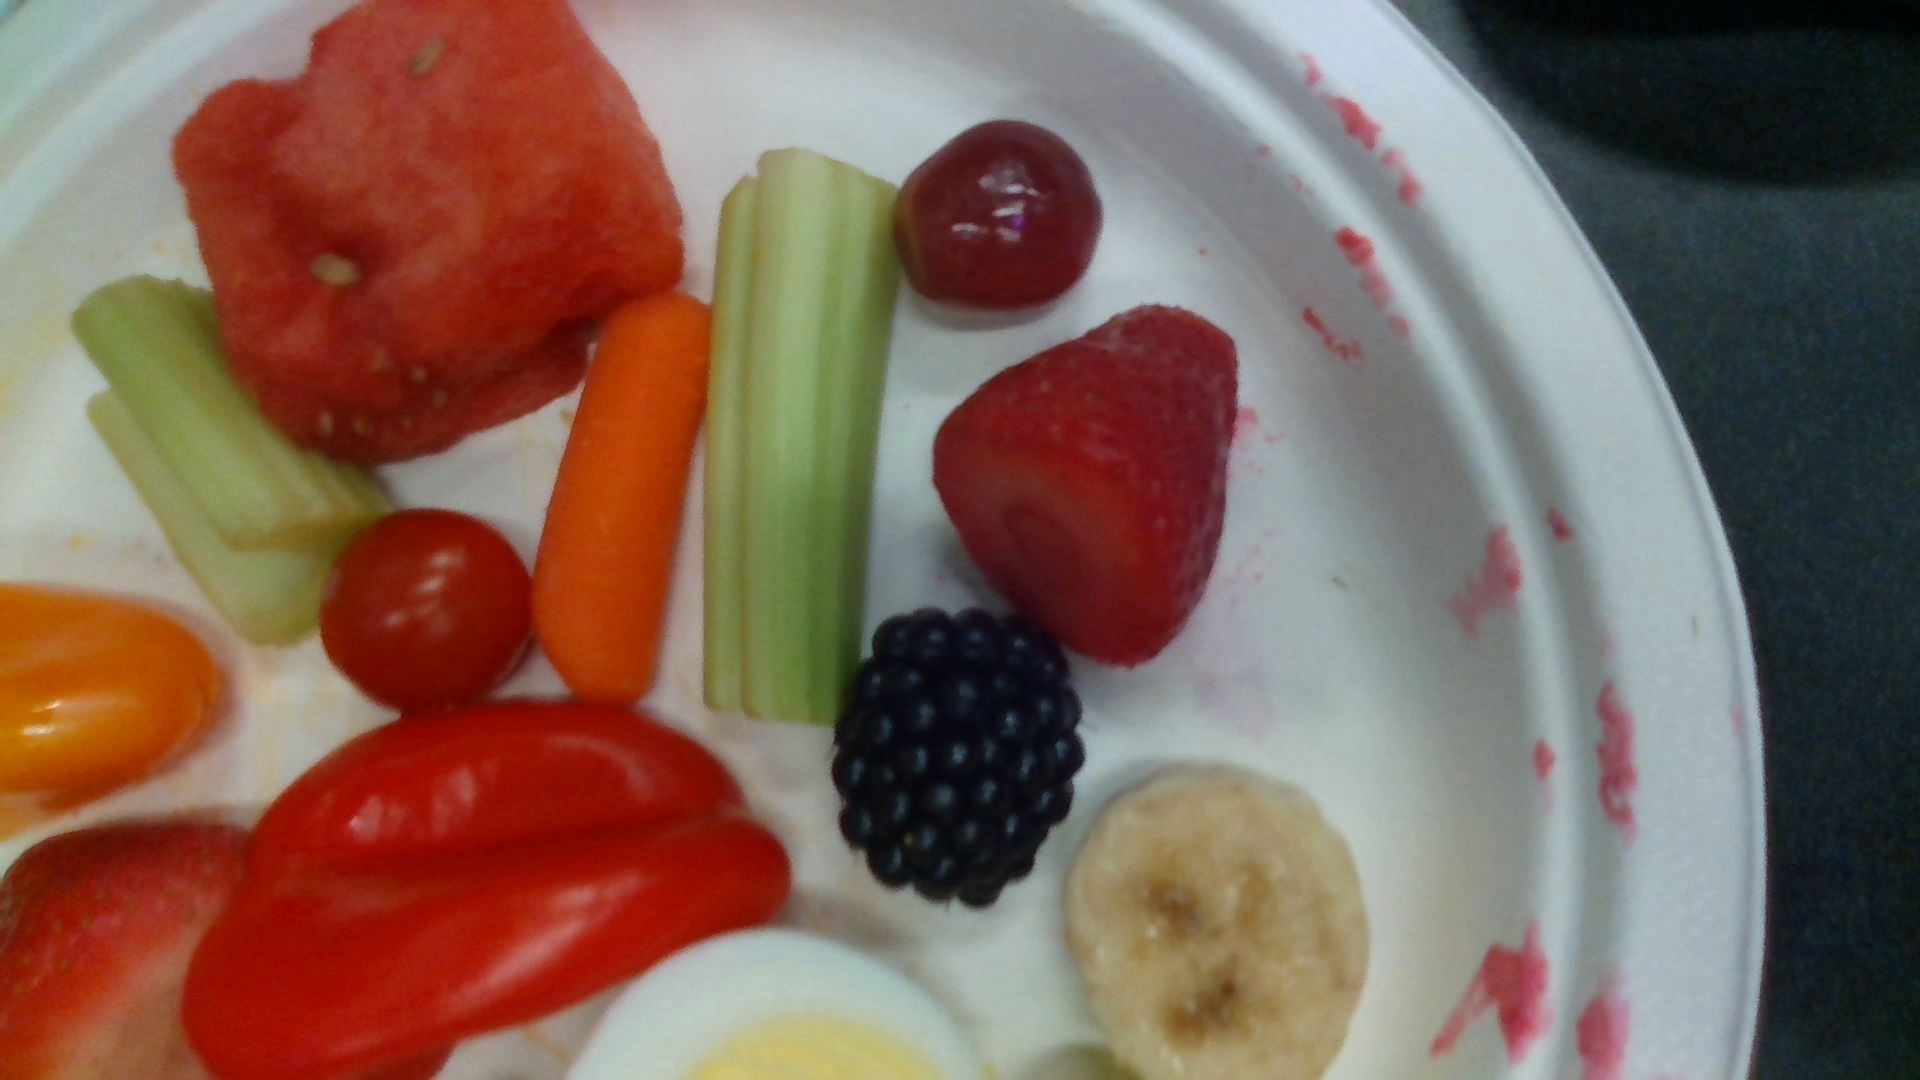banana: (1067, 766, 1367, 1080)
bell_pepper: (182, 703, 791, 1080), (1, 582, 225, 825)
blackberry: (833, 611, 1083, 905)
carrot: (531, 295, 709, 700)
celery: (73, 278, 389, 641), (704, 150, 895, 720)
cherry_tomato: (319, 510, 535, 713)
egg: (562, 928, 981, 1080)
grape_purple: (891, 121, 1102, 306)
melon: (173, 1, 682, 468)
strawberry: (935, 306, 1237, 666), (1, 825, 257, 1080)
